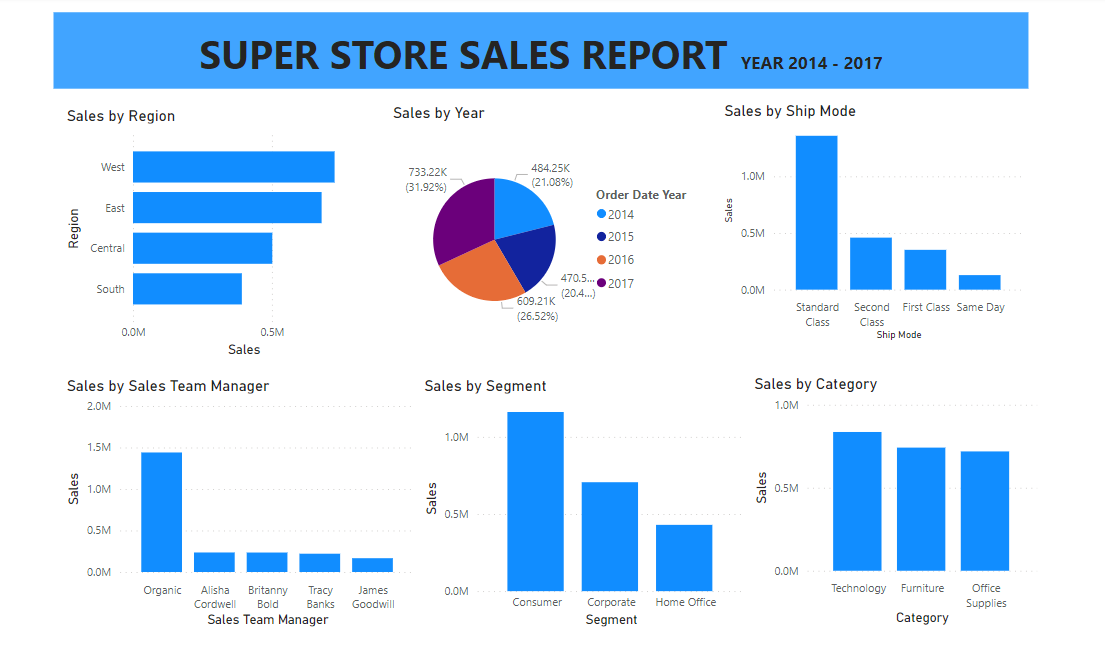

The page's visual inventory and layout, read from the dashboard file:
{"tool":"powerbi","page":{"name":"Page 1","canvas":[1280,720],"ordinal":0},"visuals":[{"type":"barChart","fields":{"Y":["Sales.Sales"],"Category":["Locations.Region"]},"box":[111.2,120.9,340.6,280.2],"z":0},{"type":"columnChart","fields":{"Y":["Sales.Sales"],"Category":["Sales Reps.Sales Team Manager"]},"box":[111.2,417.5,392.8,280.2],"z":1},{"type":"clusteredColumnChart","fields":{"Y":["Sales.Sales"],"Category":["Customers.Segment"]},"box":[504,417.5,362.6,280.2],"z":3},{"type":"pieChart","fields":{"Category":["Sales.Order Date.Variation.Date Hierarchy.Year","Sales.Order Date.Variation.Date Hierarchy.Quarter","Sales.Order Date.Variation.Date Hierarchy.Month","Sales.Order Date.Variation.Date Hierarchy.Day"],"Y":["Sales.Sales"]},"box":[469.7,118.1,342,280.2],"z":4},{"type":"clusteredColumnChart","fields":{"Y":["Sales.Sales"],"Category":["Sales.Ship Mode"]},"box":[833.6,115.4,339.2,267.8],"z":5},{"type":"clusteredColumnChart","fields":{"Category":["Products.Category"],"Y":["Sales.Sales"]},"box":[866.6,416.1,321.4,280.2],"z":6},{"type":"textbox","box":[101.6,17.9,1071.2,83.8],"z":7}]}

Visuals, with their boxes on the page's 1280x720 design canvas (x1, y1, x2, y2). These are canvas units, not pixel positions in the 1105x646 screenshot, which may show the page scaled, cropped or inside an application window:
barChart - Sales.Sales x Locations.Region: region(111, 121, 452, 401)
columnChart - Sales.Sales x Sales Reps.Sales Team Manager: region(111, 418, 504, 698)
clusteredColumnChart - Sales.Sales x Customers.Segment: region(504, 418, 867, 698)
pieChart - Sales.Order Date.Variation.Date Hierarchy.Year x Sales.Order Date.Variation.Date Hierarchy.Quarter: region(470, 118, 812, 398)
clusteredColumnChart - Sales.Sales x Sales.Ship Mode: region(834, 115, 1173, 383)
clusteredColumnChart - Products.Category x Sales.Sales: region(867, 416, 1188, 696)
textbox: region(102, 18, 1173, 102)
